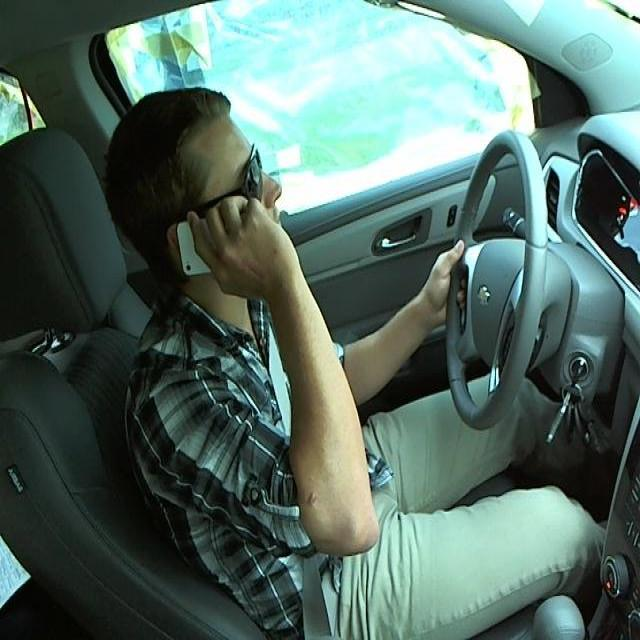using_phone: (101, 82, 318, 319)
